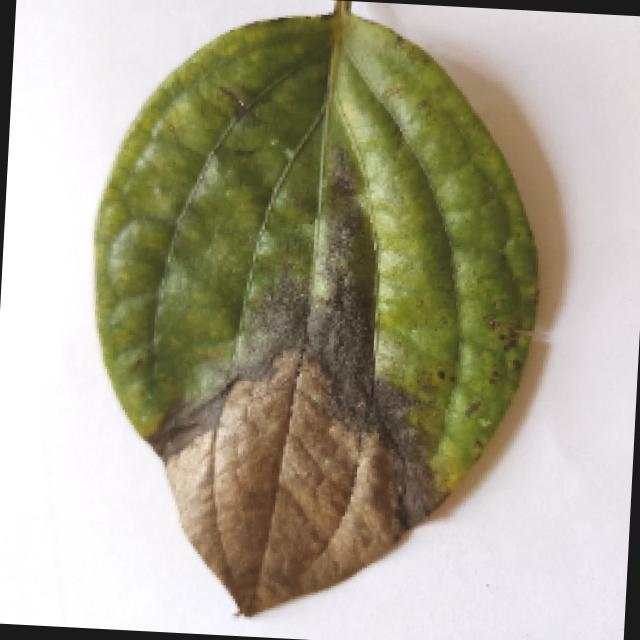footrot: (80, 0, 551, 628)
